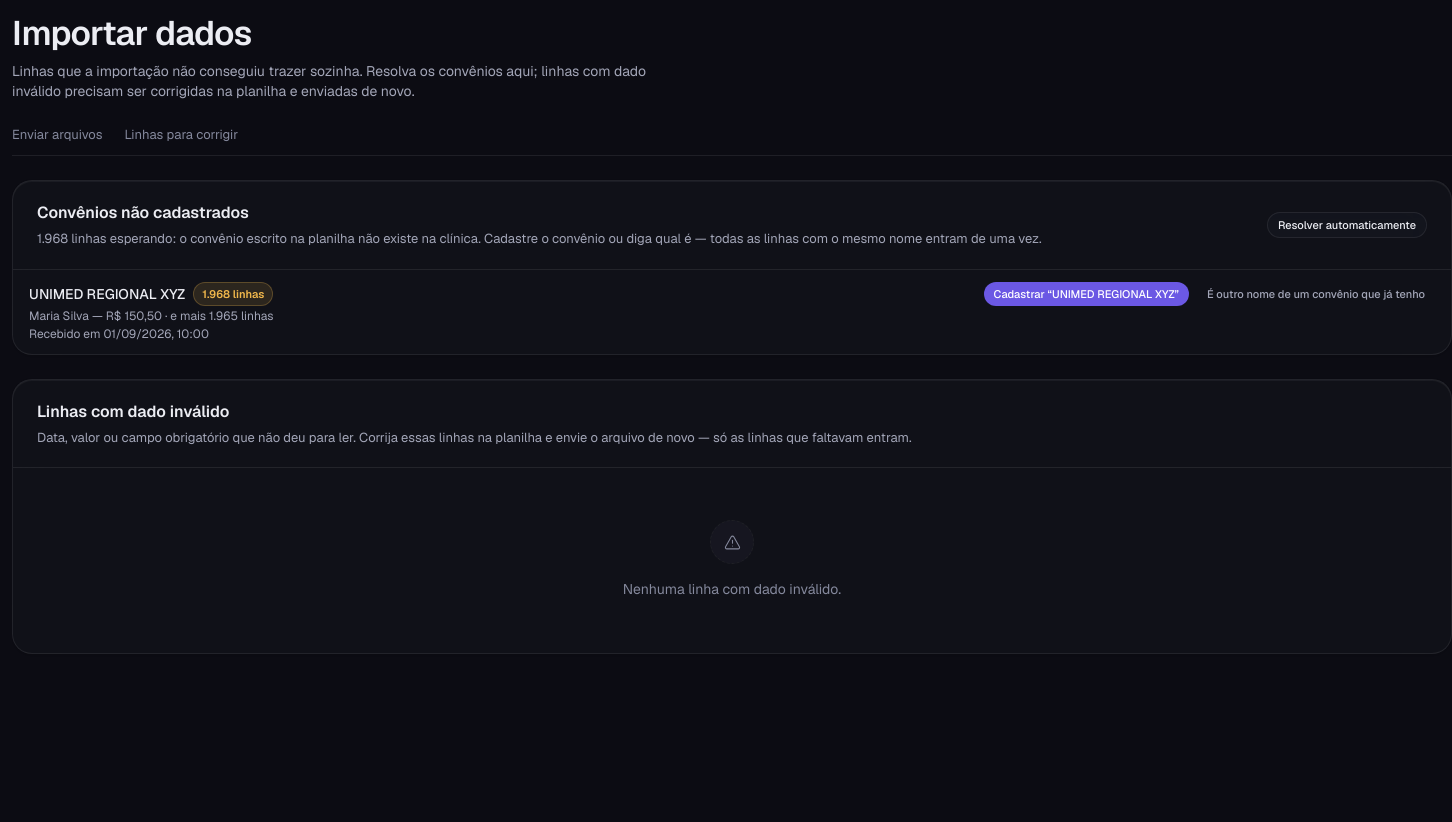
Test: SetupPage › resolve automaticamente o que já bate com convênio cadastrado
Expected: the text "1.968 linhas" is shown, 193,282 -> 273,306
Click the button "Resolver automaticamente". click: (1347, 225)
box: 1267,212 -> 1427,238
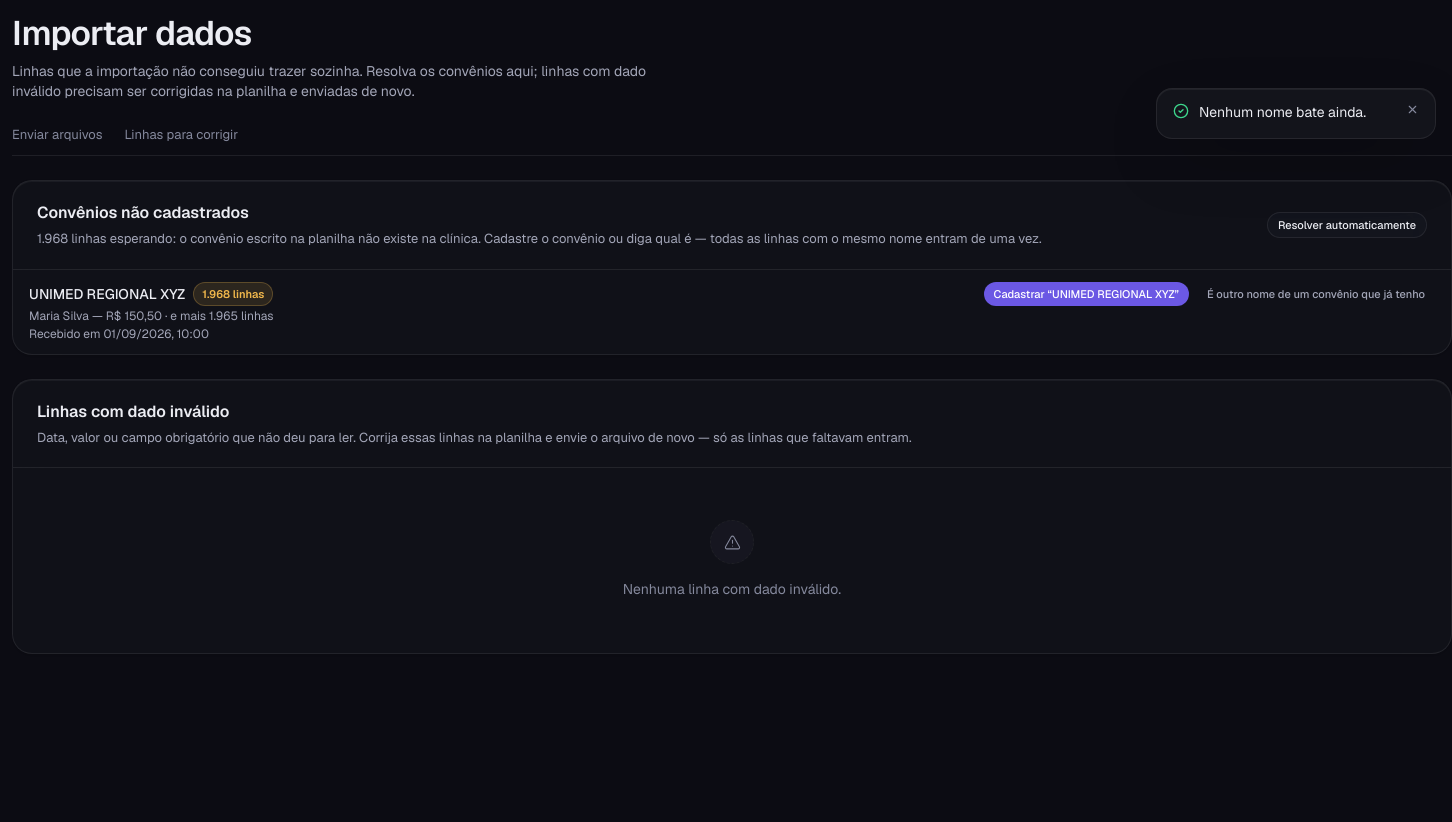
Expected: the text "Nenhum nome bate ainda." is shown, 1199,103 -> 1366,121
